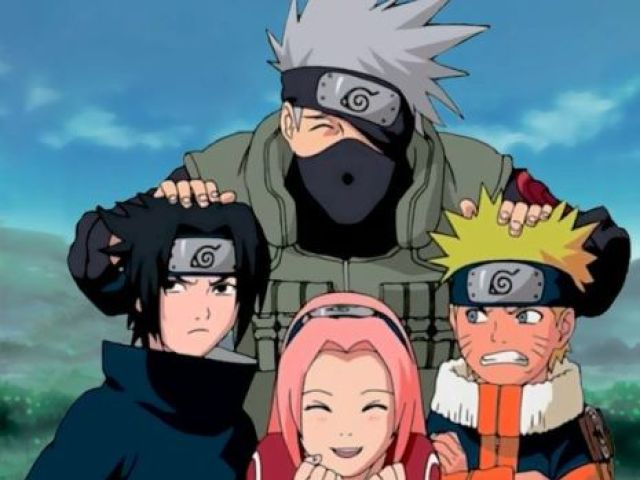kakashi: (278, 60, 421, 235)
naruto: (447, 259, 579, 385)
sakura: (275, 287, 416, 476)
sasuke: (123, 230, 249, 358)
